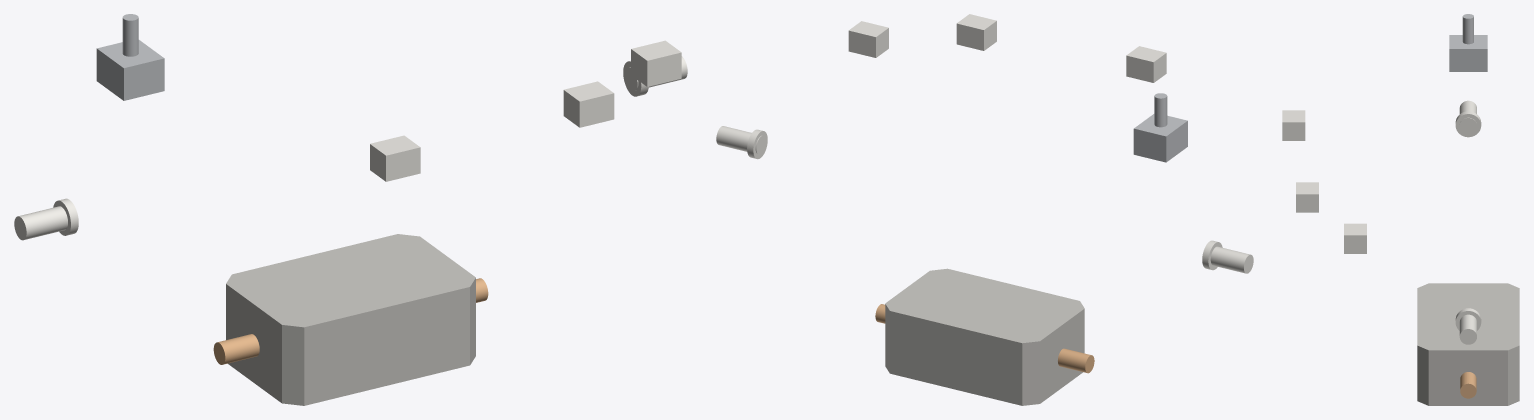
The model's file is exploded.glb.
3 views of the same model, side by side, from view 1: azimuth 30°, elevation 25°; view 2: azimuth 150°, elevation 25°; view 3: azimuth 270°, elevation 25° (orthographic). The views are drawn at different scales.
Parts seen in each view (by area): view 1: device_body, valve_stage, module_02, module_03, module_01, inlet_port, flow_channel, outlet_port; view 2: device_body, valve_stage, module_03, module_01, module_02, inlet_port, outlet_port, flow_channel; view 3: device_body, valve_stage, module_03, inlet_port, outlet_port, module_01, module_02, flow_channel.
Boxes of the visible parts, <box> form: device_body: <box>226,234,475,405</box>; valve_stage: <box>96,14,164,100</box>; module_02: <box>563,81,614,127</box>; module_03: <box>370,135,420,181</box>; module_01: <box>631,40,681,86</box>; inlet_port: <box>14,198,78,240</box>; flow_channel: <box>213,278,488,364</box>; outlet_port: <box>623,56,687,96</box>; device_body: <box>885,268,1084,405</box>; valve_stage: <box>1133,93,1187,162</box>; module_03: <box>1126,46,1166,82</box>; module_01: <box>848,21,888,57</box>; module_02: <box>956,14,996,50</box>; inlet_port: <box>1202,240,1253,273</box>; outlet_port: <box>716,126,767,159</box>; flow_channel: <box>875,304,1094,373</box>; device_body: <box>1417,283,1519,405</box>; valve_stage: <box>1449,14,1487,71</box>; module_03: <box>1282,110,1305,140</box>; inlet_port: <box>1455,100,1481,137</box>; outlet_port: <box>1455,308,1481,344</box>; module_01: <box>1344,223,1366,253</box>; module_02: <box>1296,182,1318,212</box>; flow_channel: <box>1460,372,1476,398</box>.
Bounding box in the file's own units: 11.23 × 6.42 × 4.93.
